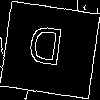D: (25, 25, 65, 76)
